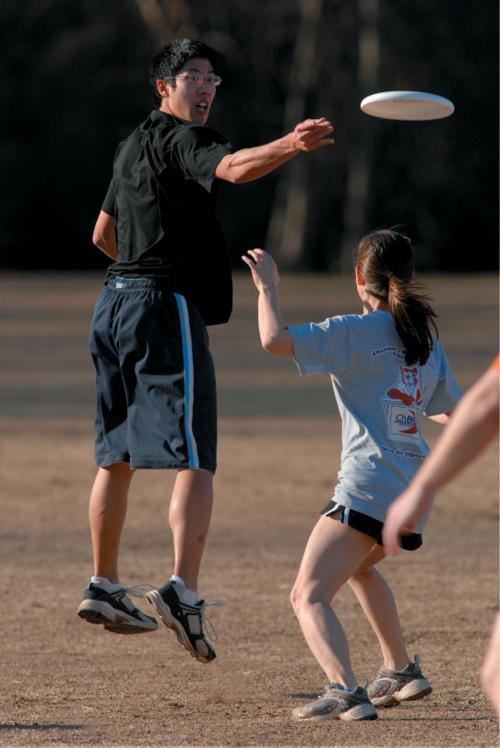person: (76, 37, 334, 663)
